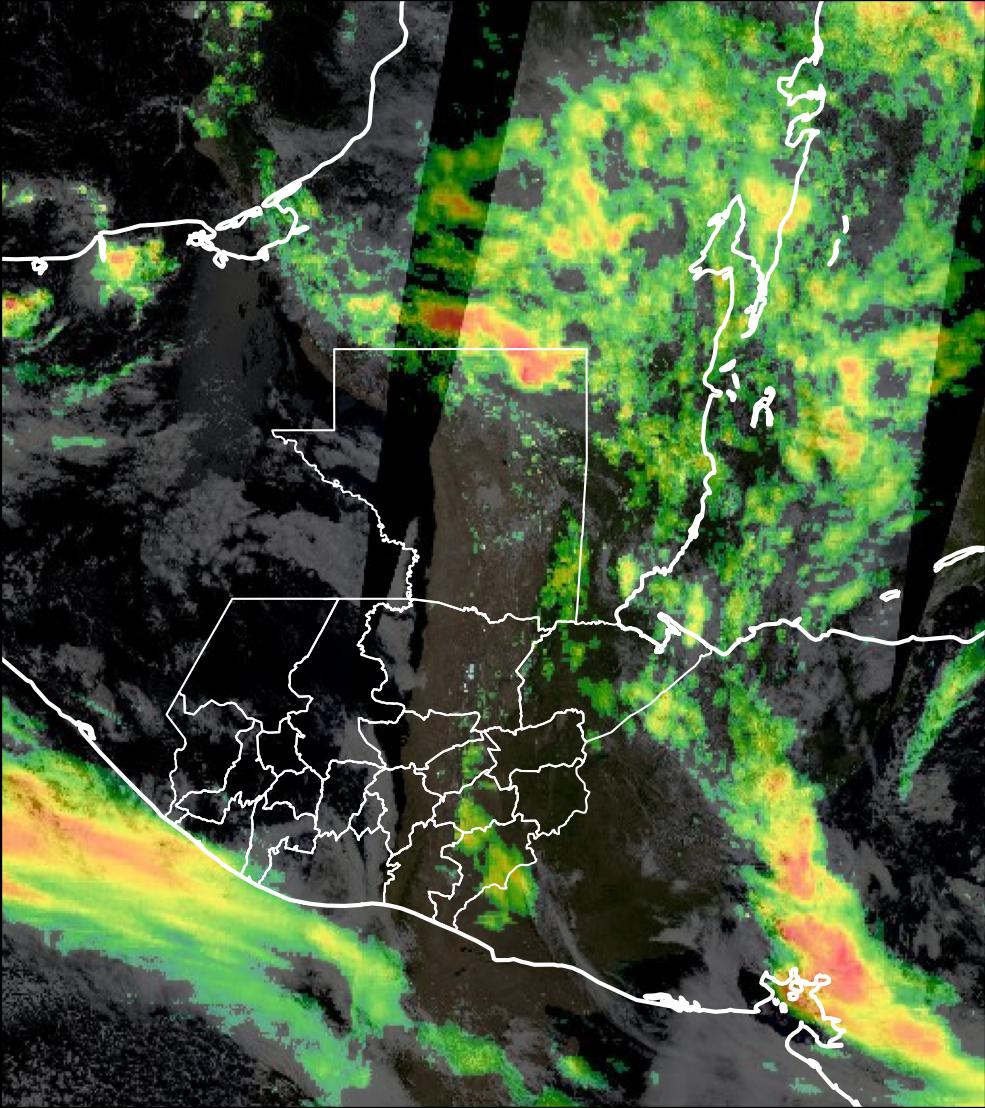precipitacion: (780, 909, 971, 1072), (1, 776, 191, 923), (432, 296, 587, 403)
